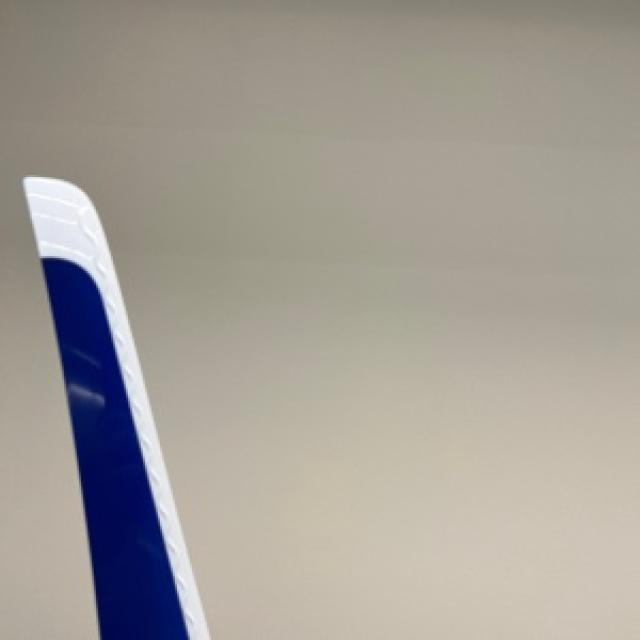healthy: (23, 177, 205, 638)
